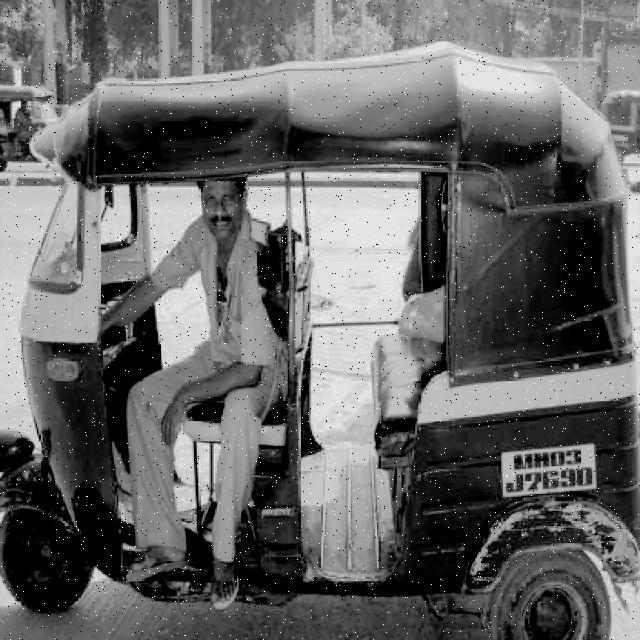Auto-Rickshaw: (0, 67, 638, 636)
